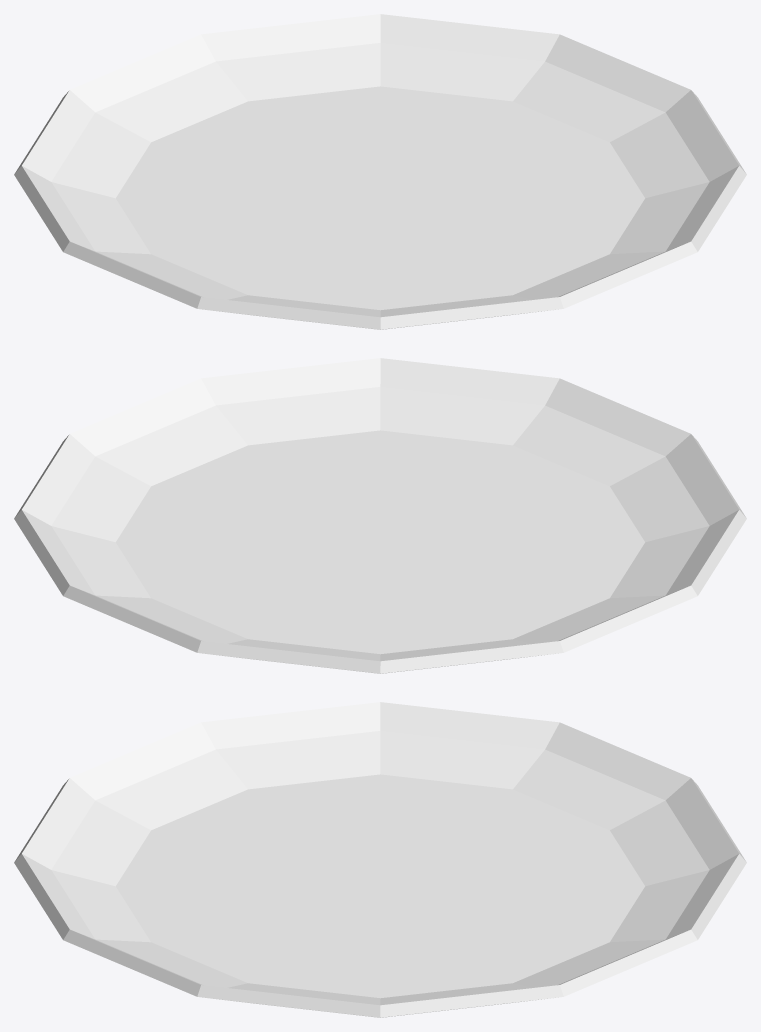
The model's file is Plate_001.obj.
3 renders of one model, top to bottom at view 1: azimuth 30°, elevation 25°; view 2: azimuth 150°, elevation 25°; view 3: azimuth 270°, elevation 25°, orthographic.
Parts seen in each view (by area): view 1: Plate_001; view 2: Plate_001; view 3: Plate_001.
Boxes of the visible parts, x1,y1,x2,y2 form: Plate_001: (14, 14, 746, 329); Plate_001: (14, 358, 746, 673); Plate_001: (14, 702, 746, 1017).
Bounding box in the file's own units: 0.2317 × 0.0199 × 0.2317.
